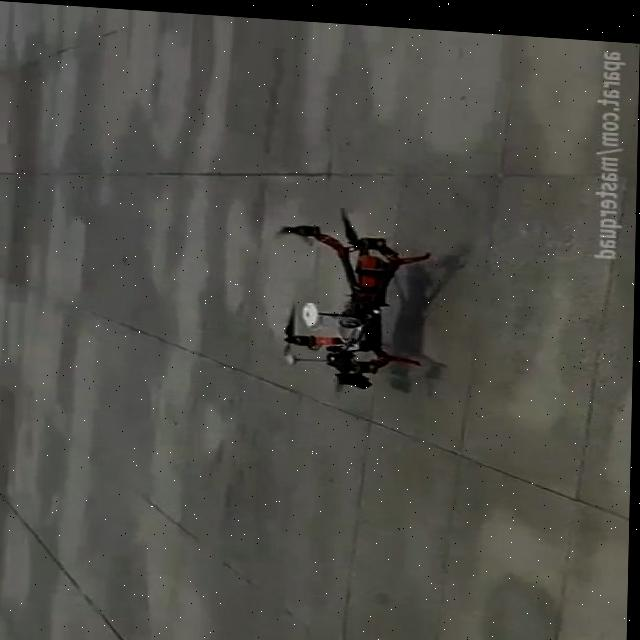drone: (260, 191, 438, 410)
